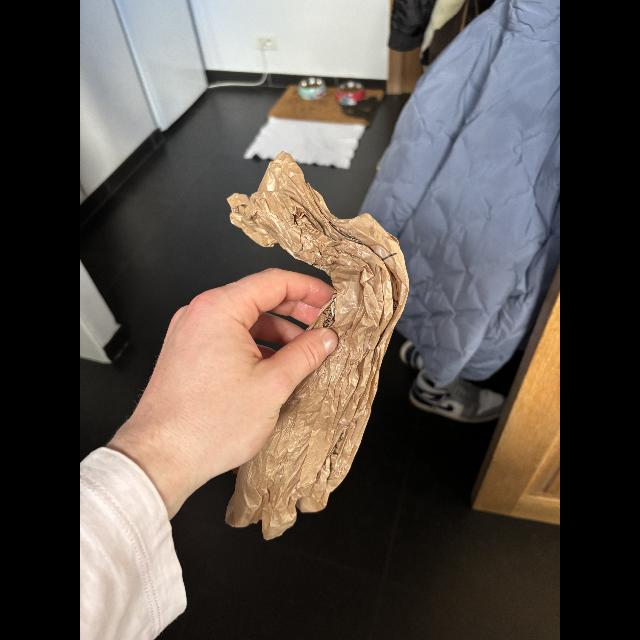Paper: (220, 146, 410, 548)
